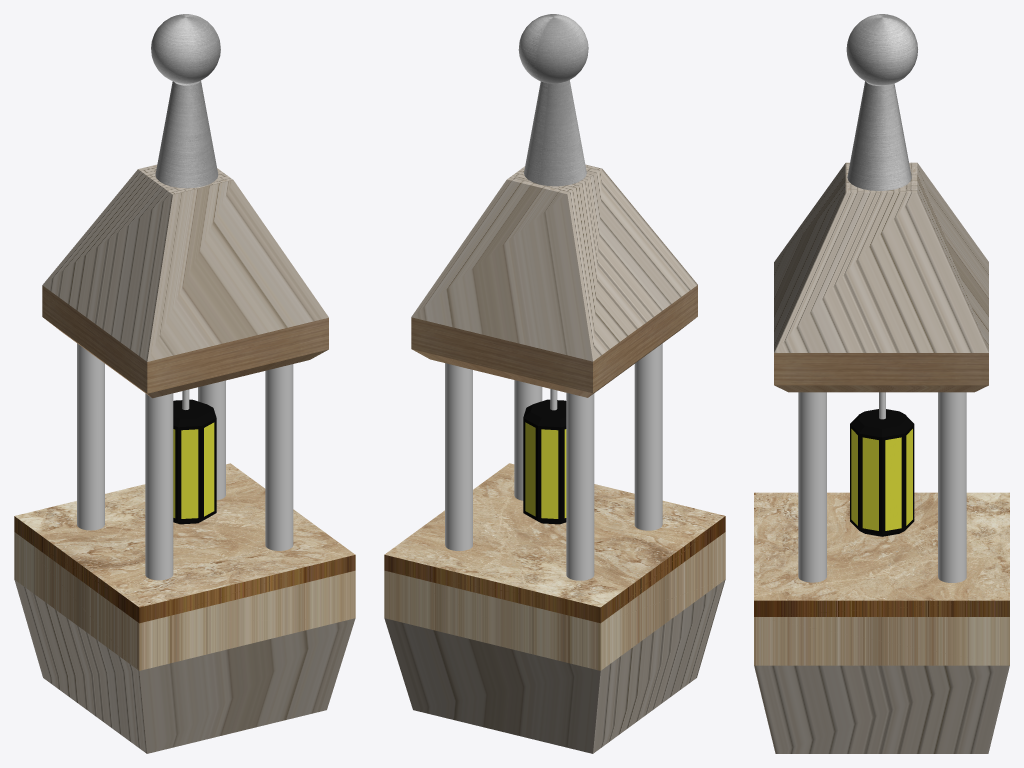
Rendered from light.FBX.
3 renders of one model, left to right at view 1: azimuth 30°, elevation 25°; view 2: azimuth 150°, elevation 25°; view 3: azimuth 270°, elevation 25°, orthographic. The views are drawn at different scales.
Parts seen in each view (by area): view 1: Box002, Box004, Cylinder001, Cylinder002, Cylinder005, Cone001, Cylinder004, Sphere001, Cylinder003; view 2: Box002, Box004, Cylinder004, Cylinder005, Cylinder003, Cylinder001, Cone001, Sphere001, Cylinder002; view 3: Box002, Box004, Cylinder005, Cylinder003, Cylinder002, Cone001, Sphere001.
Boxes of the visible parts, x1,y1,x2,y2 form: Box002: (14, 463, 355, 753); Box004: (42, 164, 328, 398); Cylinder001: (145, 393, 173, 580); Cylinder002: (265, 364, 293, 550); Cylinder005: (173, 399, 216, 524); Cone001: (155, 80, 218, 188); Cylinder004: (77, 343, 104, 530); Sphere001: (151, 14, 220, 83); Cylinder003: (198, 380, 225, 500); Box002: (384, 463, 725, 753); Box004: (411, 164, 697, 397); Cylinder004: (566, 392, 594, 580); Cylinder005: (523, 399, 566, 524); Cylinder003: (445, 363, 472, 550); Cylinder001: (634, 343, 662, 530); Cone001: (524, 80, 586, 186); Sphere001: (518, 14, 588, 83); Cylinder002: (514, 380, 542, 500); Box002: (754, 492, 1009, 753); Box004: (774, 162, 988, 392); Cylinder005: (850, 409, 914, 536); Cylinder003: (938, 392, 966, 582); Cylinder002: (798, 392, 826, 582); Cone001: (847, 81, 911, 190); Sphere001: (846, 14, 917, 85).
Size of the model in its own units: 35.67 by 107 by 35.71.
Materials: 14 (14 with a texture image).
